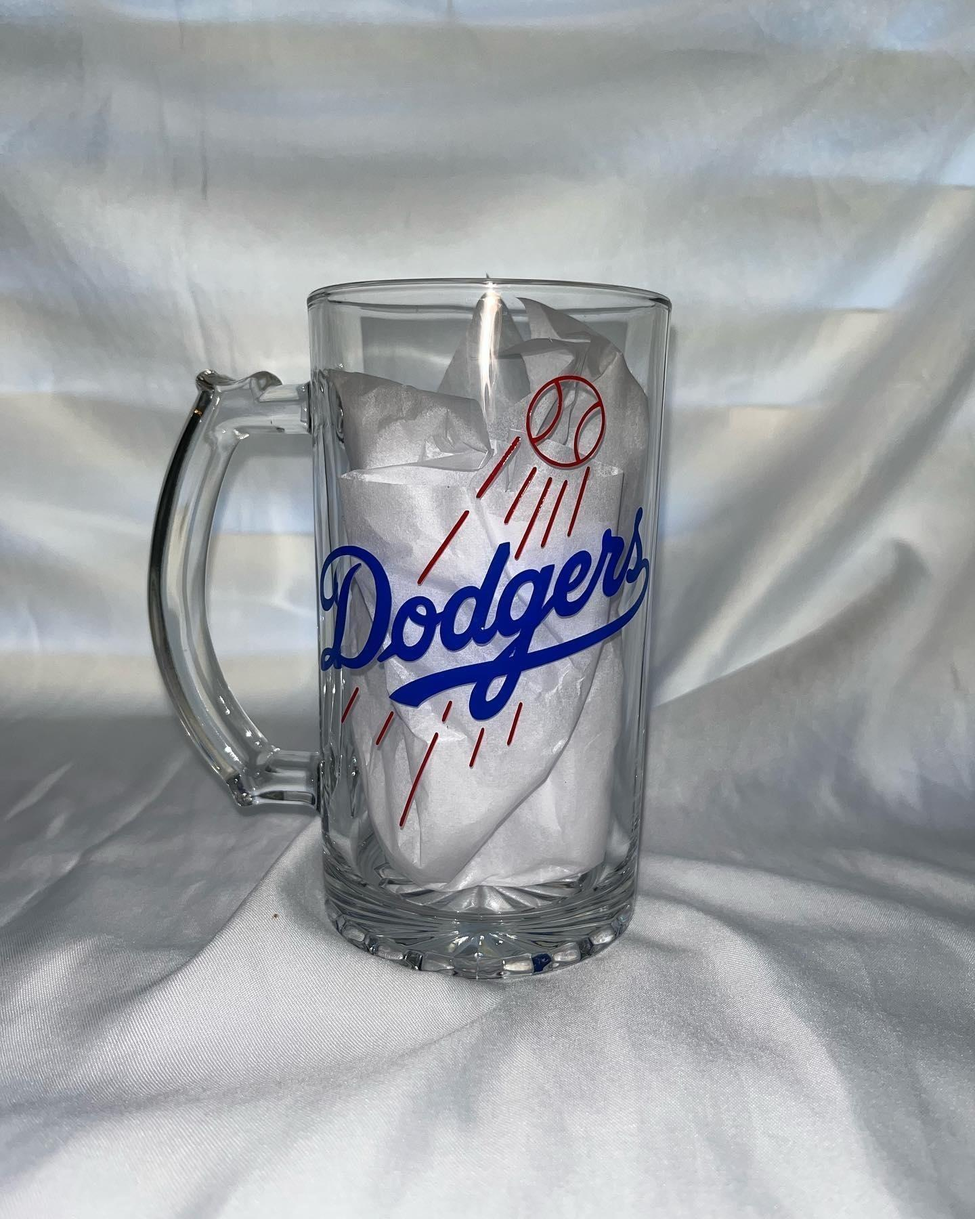glass-mug: (143, 263, 676, 991)
